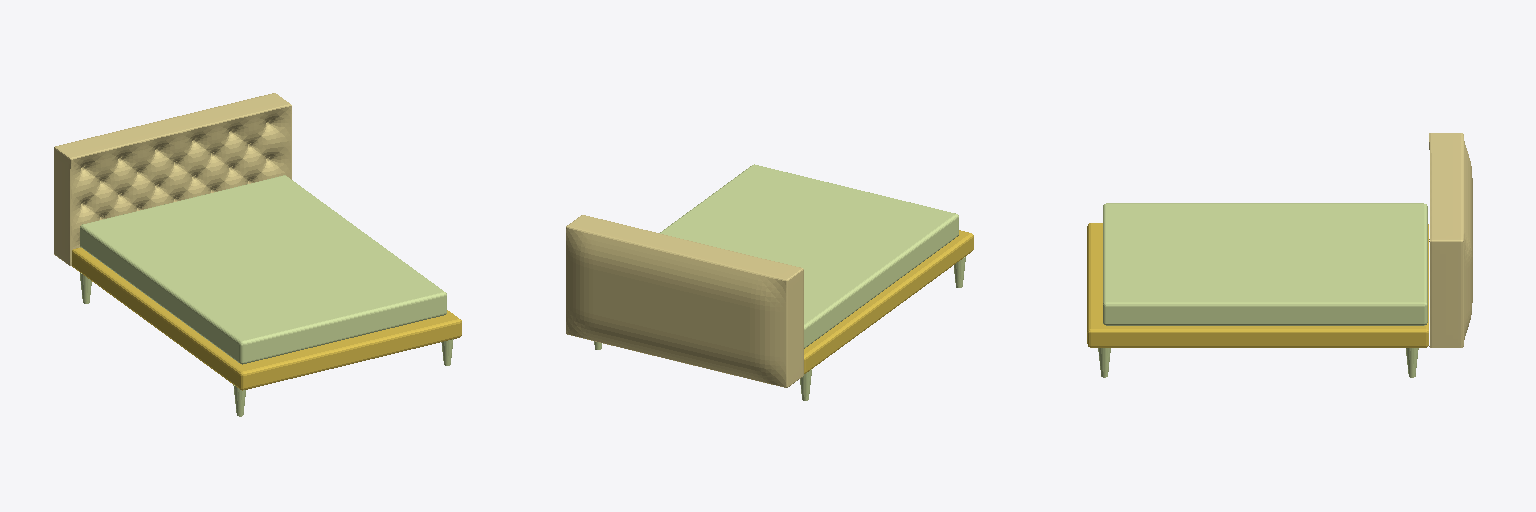
The model's file is bed.obj.
The picture shows the model from 3 angles: view 1: azimuth 30°, elevation 25°; view 2: azimuth 150°, elevation 25°; view 3: azimuth 270°, elevation 25°; orthographic projection.
Visible parts, largest first — view 1: ChamferBox002, Box001, ChamferBox001; view 2: Box001, ChamferBox002, ChamferBox001; view 3: ChamferBox002, ChamferBox001, Box001.
Boxes of the visible parts, box(x1,y1,x2,y2) form: ChamferBox002: box(80, 175, 446, 364); Box001: box(54, 93, 291, 265); ChamferBox001: box(72, 247, 461, 390); Box001: box(566, 215, 803, 387); ChamferBox002: box(660, 164, 958, 348); ChamferBox001: box(804, 230, 973, 373); ChamferBox002: box(1103, 203, 1427, 325); ChamferBox001: box(1087, 223, 1428, 347); Box001: box(1429, 133, 1472, 347).
Size of the model in its own units: 1500 by 900 by 2253.